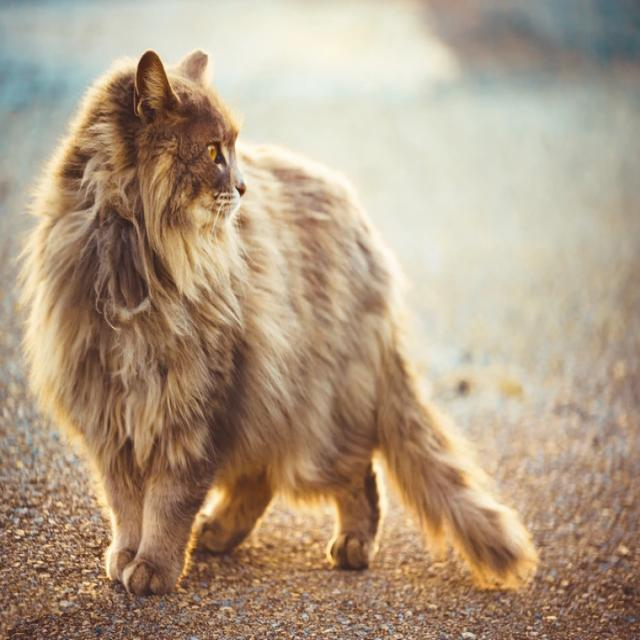cat: (22, 51, 536, 595)
